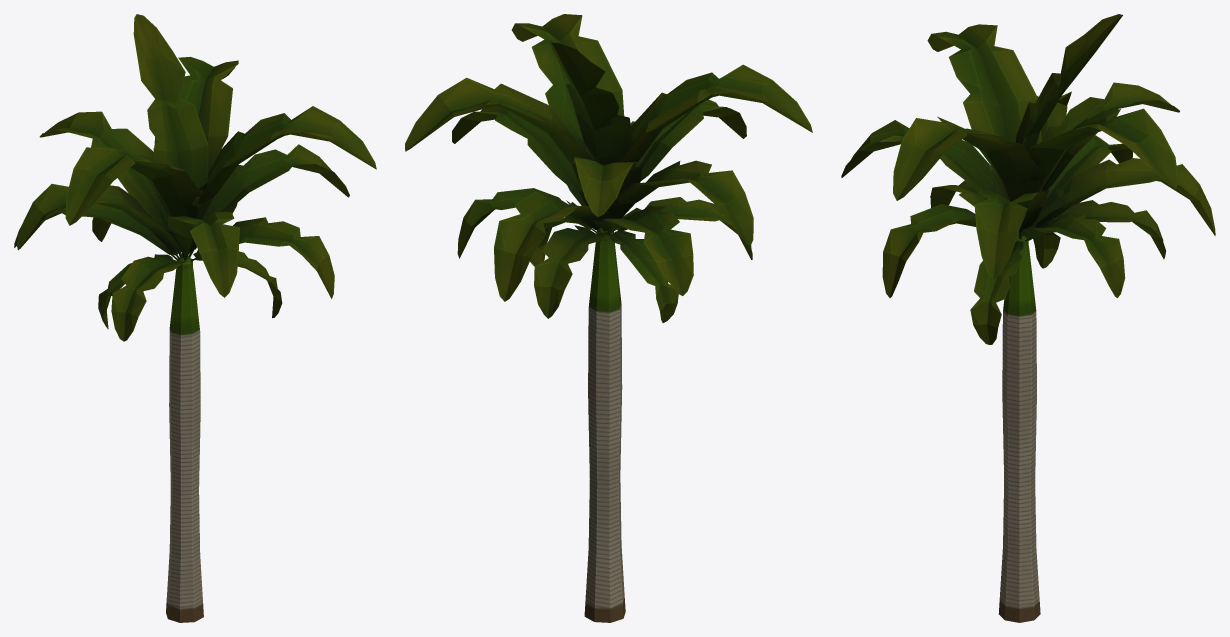
The model's file is RoyalPalmTree(1).gltf.
3 renders of one model, left to right at view 1: azimuth 30°, elevation 25°; view 2: azimuth 150°, elevation 25°; view 3: azimuth 270°, elevation 25°, orthographic. The views are drawn at different scales.
Visible parts, largest first — view 1: node-0; view 2: node-0; view 3: node-0.
Boxes of the visible parts, x1=… form: node-0: x1=14, y1=14, x2=376, y2=622; node-0: x1=405, y1=14, x2=812, y2=622; node-0: x1=841, y1=14, x2=1215, y2=622.
Size of the model in its own units: 19.08 by 33.68 by 19.08.
Materials: 1 (1 with a texture image).
